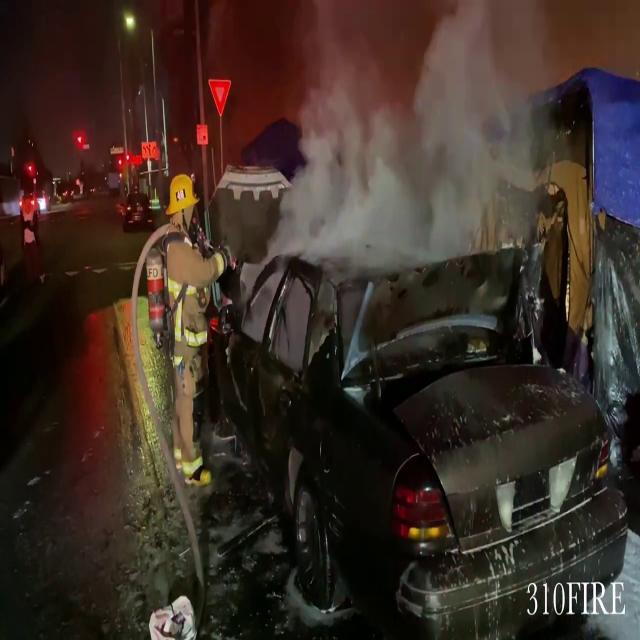Smoke: (263, 0, 557, 274)
